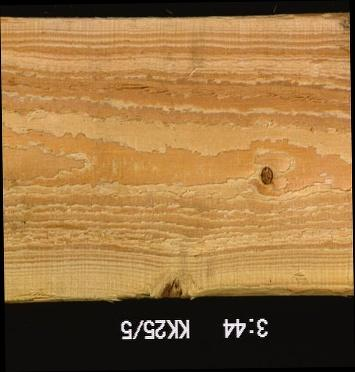dry_knot: (258, 165, 274, 186)
split: (22, 292, 51, 302)
wave: (53, 290, 353, 300)
